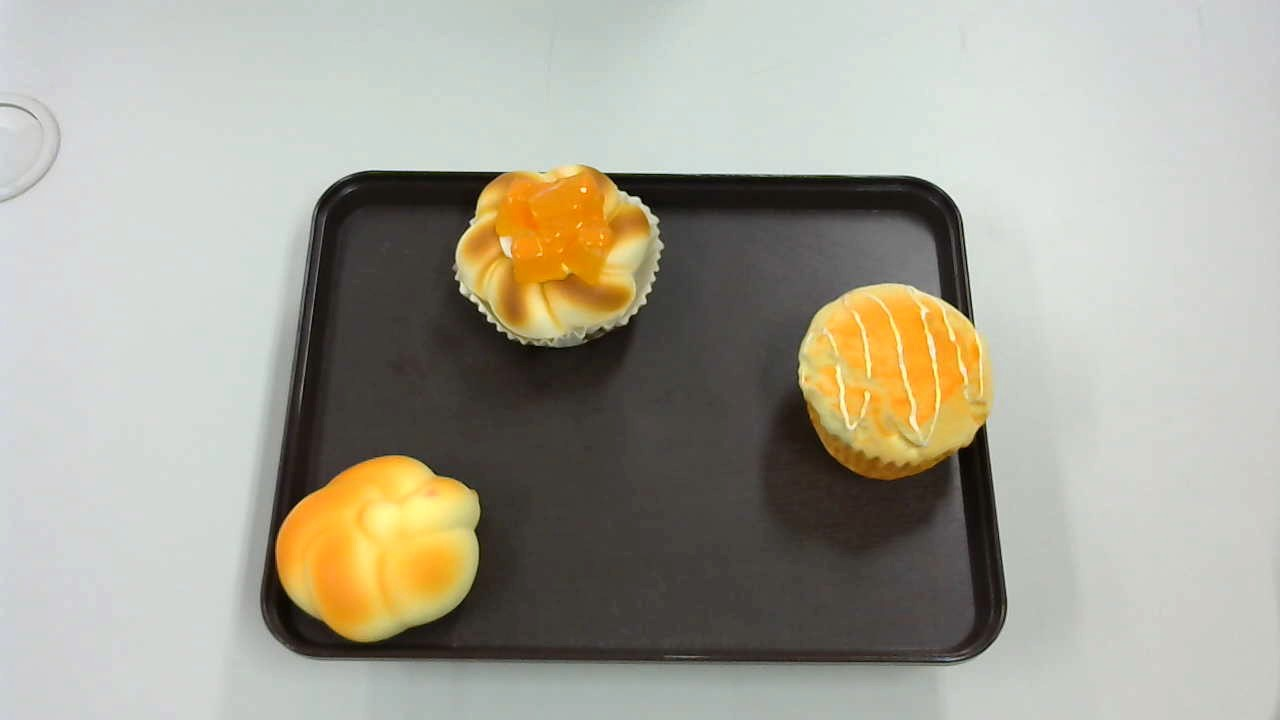croissant: (274, 452, 480, 639)
cupcake: (798, 282, 997, 482)
mango tart: (455, 164, 665, 347)
